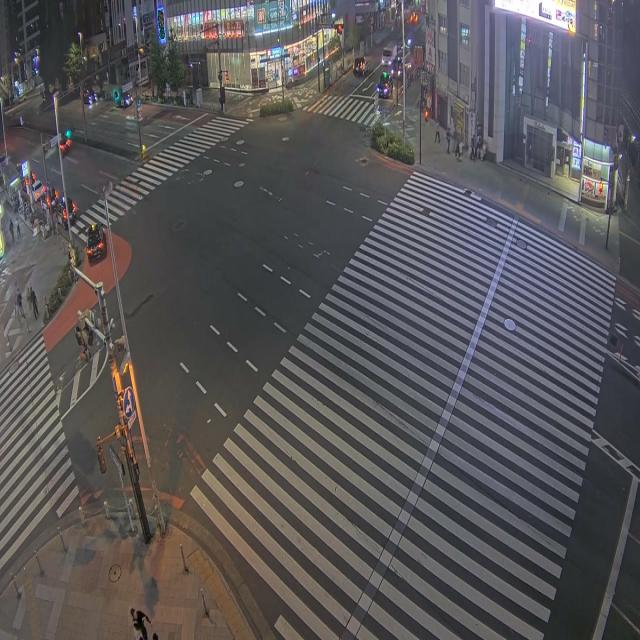car: (86, 224, 106, 262), (56, 196, 76, 225), (377, 72, 393, 99), (32, 180, 46, 202), (390, 57, 403, 79), (353, 57, 368, 76), (83, 89, 97, 105), (60, 136, 71, 155), (121, 94, 133, 108)
